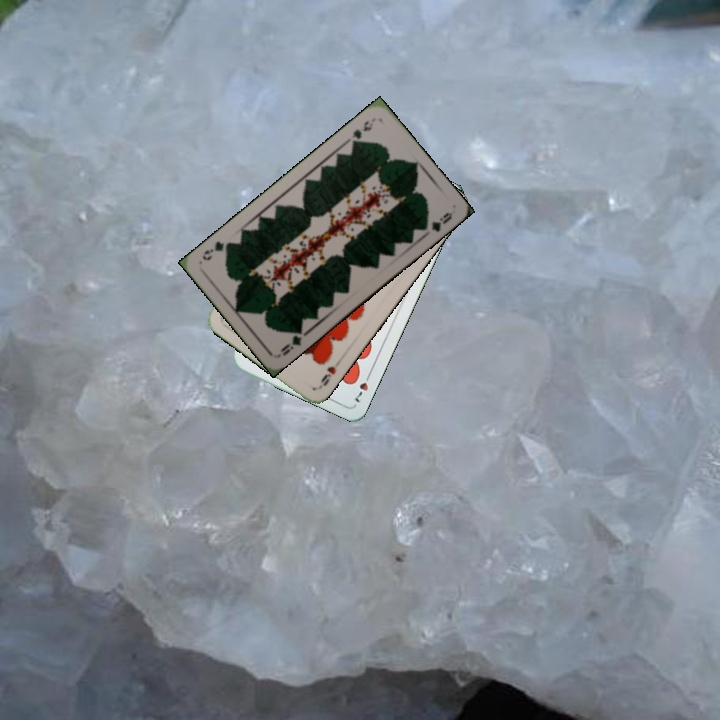G9: (275, 324, 309, 359), (343, 114, 377, 149)
H7: (351, 368, 374, 406)
H9: (315, 362, 339, 391)
